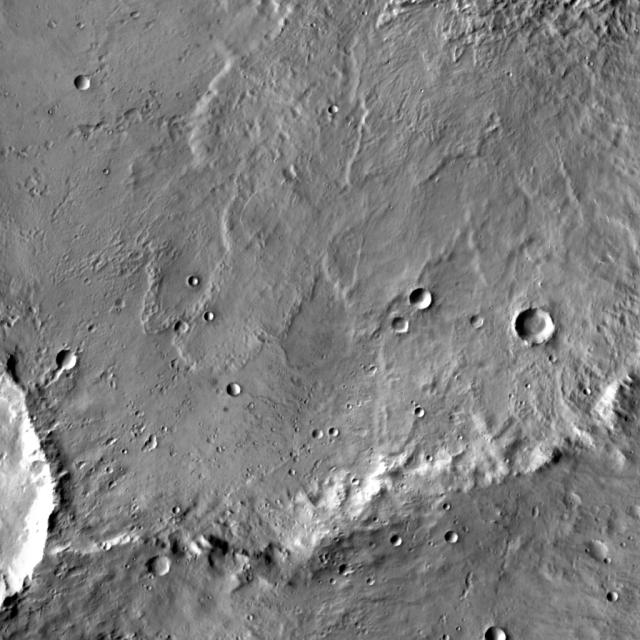crater: (0, 0, 640, 559), (214, 540, 254, 578), (522, 309, 560, 346), (154, 556, 177, 577), (417, 290, 439, 311), (594, 542, 616, 563), (62, 351, 84, 371), (486, 506, 506, 524), (397, 317, 416, 335), (583, 624, 604, 640), (614, 518, 632, 536), (81, 76, 97, 90), (233, 384, 248, 398), (572, 493, 586, 508), (288, 167, 303, 181), (130, 109, 146, 122), (477, 318, 490, 330), (452, 533, 464, 546), (503, 517, 516, 529), (151, 439, 163, 452), (85, 124, 97, 136), (181, 323, 193, 334), (296, 107, 308, 118), (421, 409, 432, 419), (615, 594, 626, 604), (336, 429, 346, 439), (398, 537, 408, 547), (347, 567, 357, 577), (56, 371, 66, 381), (38, 319, 48, 329), (373, 368, 383, 378), (497, 478, 507, 488), (364, 428, 374, 438), (320, 431, 330, 440), (596, 506, 606, 515), (195, 277, 204, 286), (276, 152, 286, 160), (336, 107, 345, 115), (211, 314, 220, 322), (136, 12, 145, 20), (50, 142, 59, 150), (122, 300, 130, 308), (54, 24, 62, 32), (27, 298, 35, 306), (176, 361, 184, 369), (603, 326, 611, 334), (538, 510, 546, 518), (358, 480, 366, 488), (108, 544, 116, 552), (556, 357, 564, 364), (294, 471, 302, 478), (471, 582, 478, 590), (154, 436, 162, 443), (180, 507, 187, 514), (76, 16, 83, 23), (443, 499, 450, 506), (87, 319, 94, 326), (560, 508, 568, 514), (584, 384, 590, 391), (368, 574, 374, 581), (105, 462, 112, 468), (98, 49, 104, 56), (426, 451, 433, 457)
